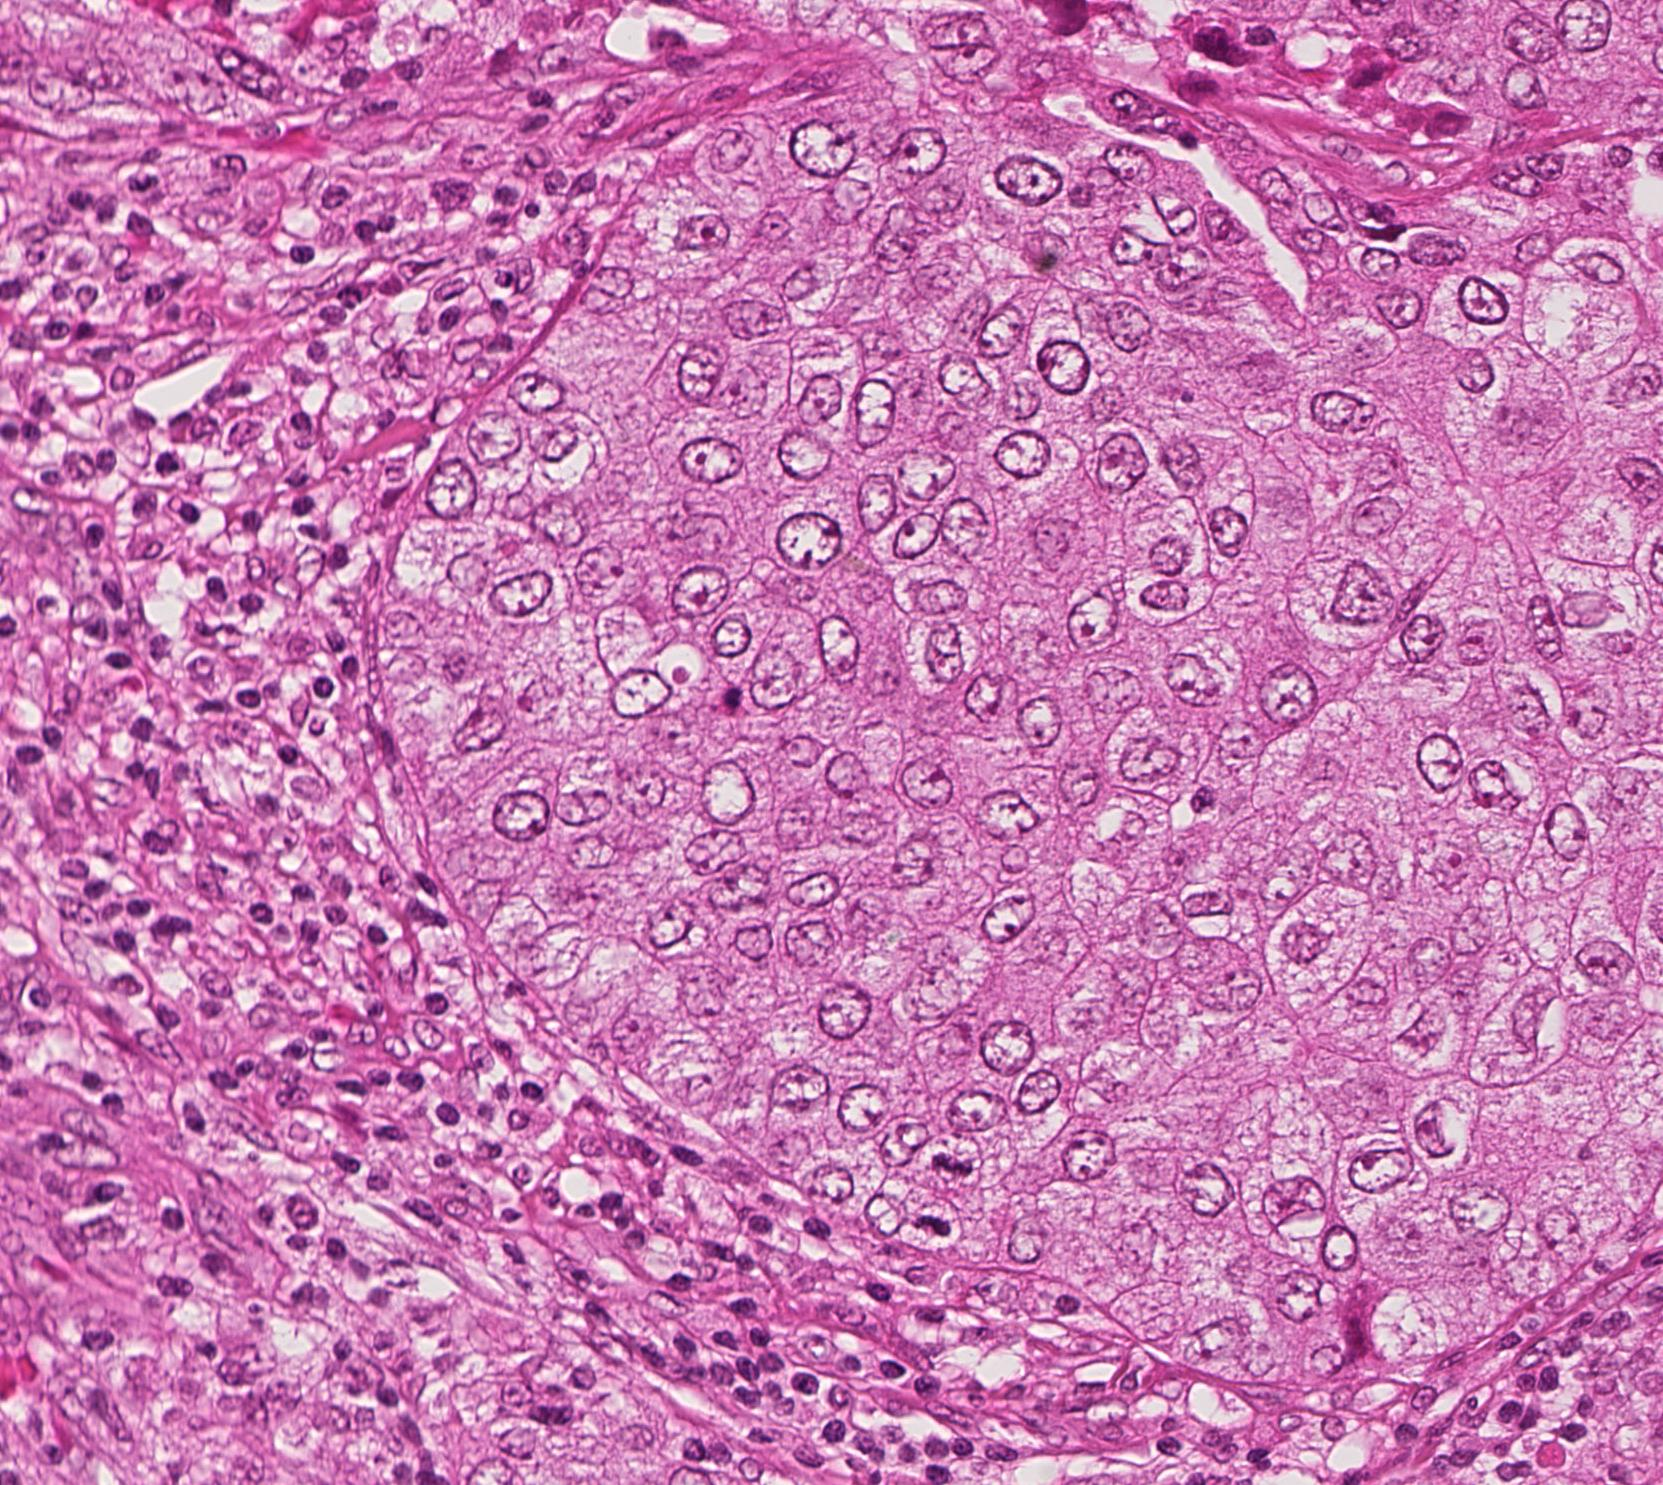mitosis: (922, 1134, 982, 1194), (902, 1194, 962, 1254)
